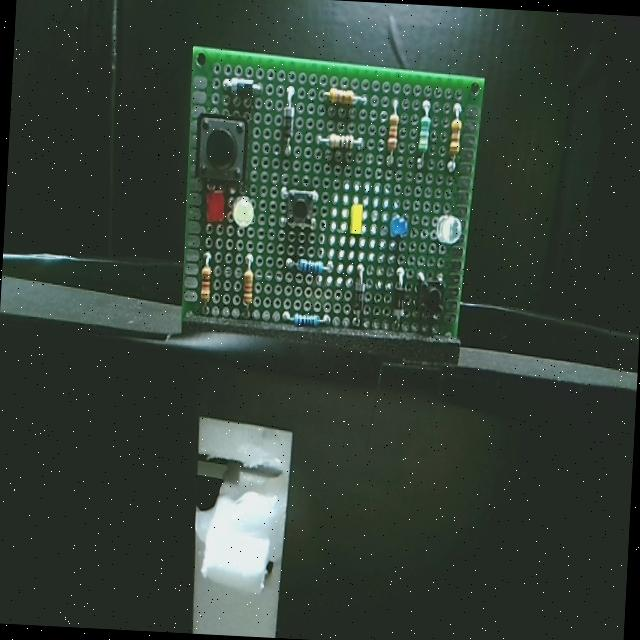diode: (277, 99, 308, 141), (389, 266, 410, 324), (352, 271, 371, 323), (226, 77, 258, 104)
led: (428, 208, 465, 250), (230, 190, 256, 236), (340, 198, 368, 240), (203, 188, 230, 228), (385, 212, 413, 239)
resistor: (321, 128, 364, 162), (280, 305, 332, 333), (320, 82, 362, 110), (290, 252, 330, 280), (384, 106, 404, 158), (195, 259, 217, 305), (414, 110, 434, 160), (238, 262, 258, 308), (450, 114, 466, 170)
switch: (191, 110, 251, 180), (414, 268, 446, 320), (287, 185, 313, 235)
